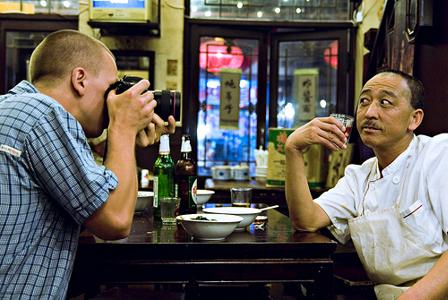person: (2, 31, 175, 299)
